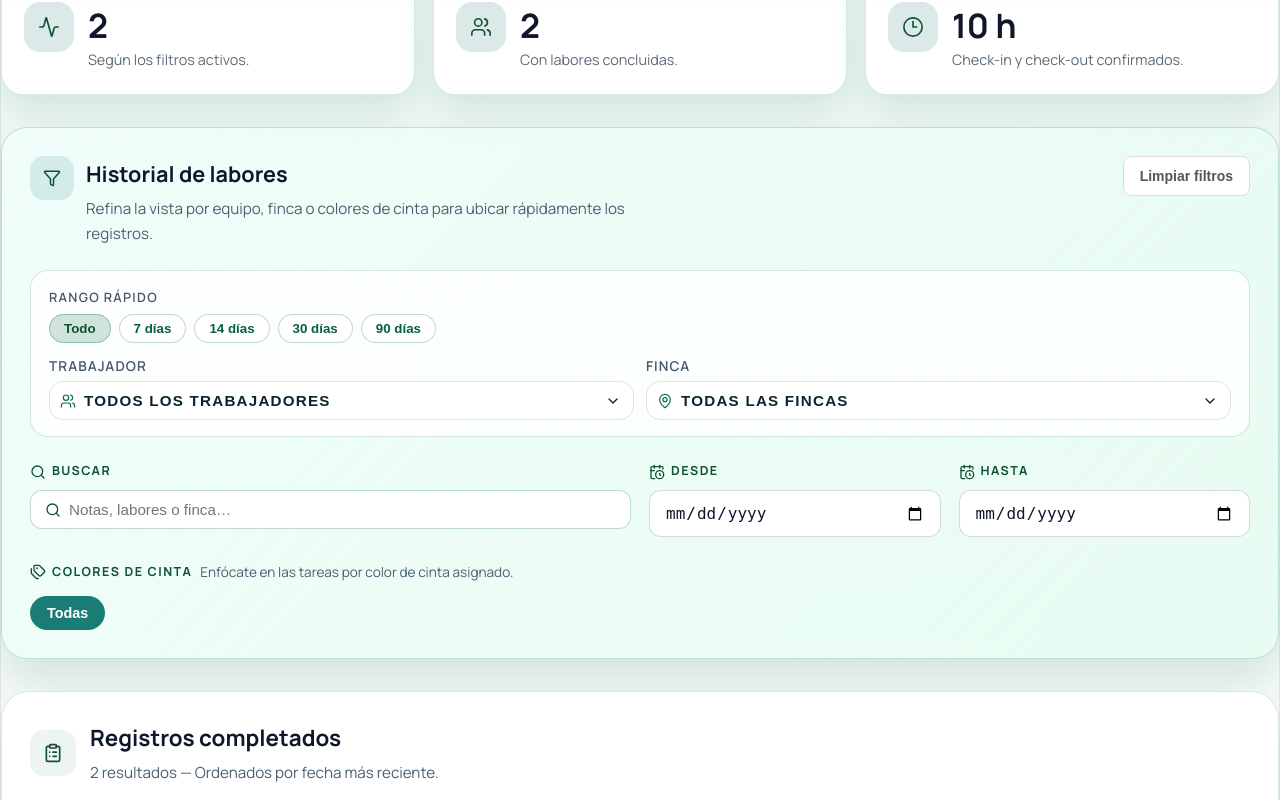
Scenario: WorkerLogViewer filters › filter by worker using the new select
(page scrolled)
Click the button with class "filterPanel__dropdownTrigger" showing "Todos los trabajadores" at (207, 401), box [84, 382, 621, 420]
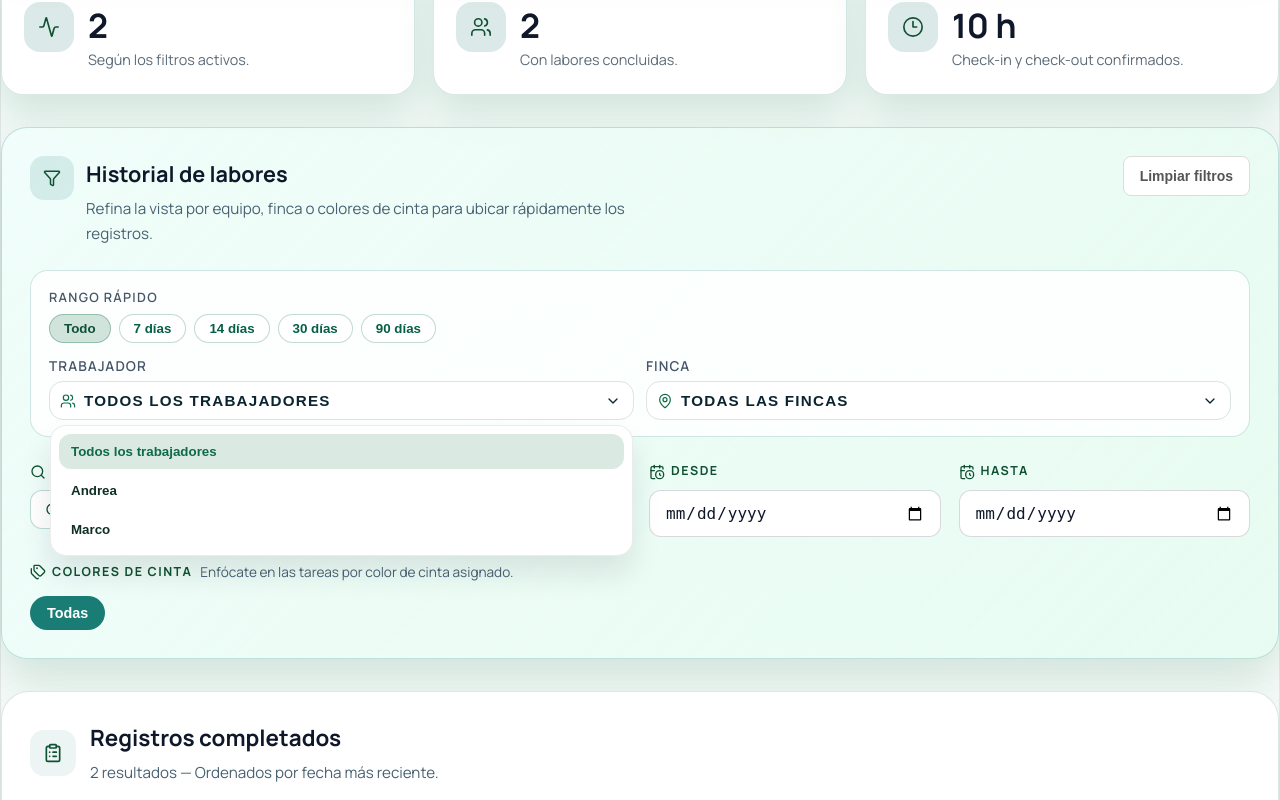
Click the button "Marco" at (91, 530), box [59, 512, 624, 548]
(page scrolled)
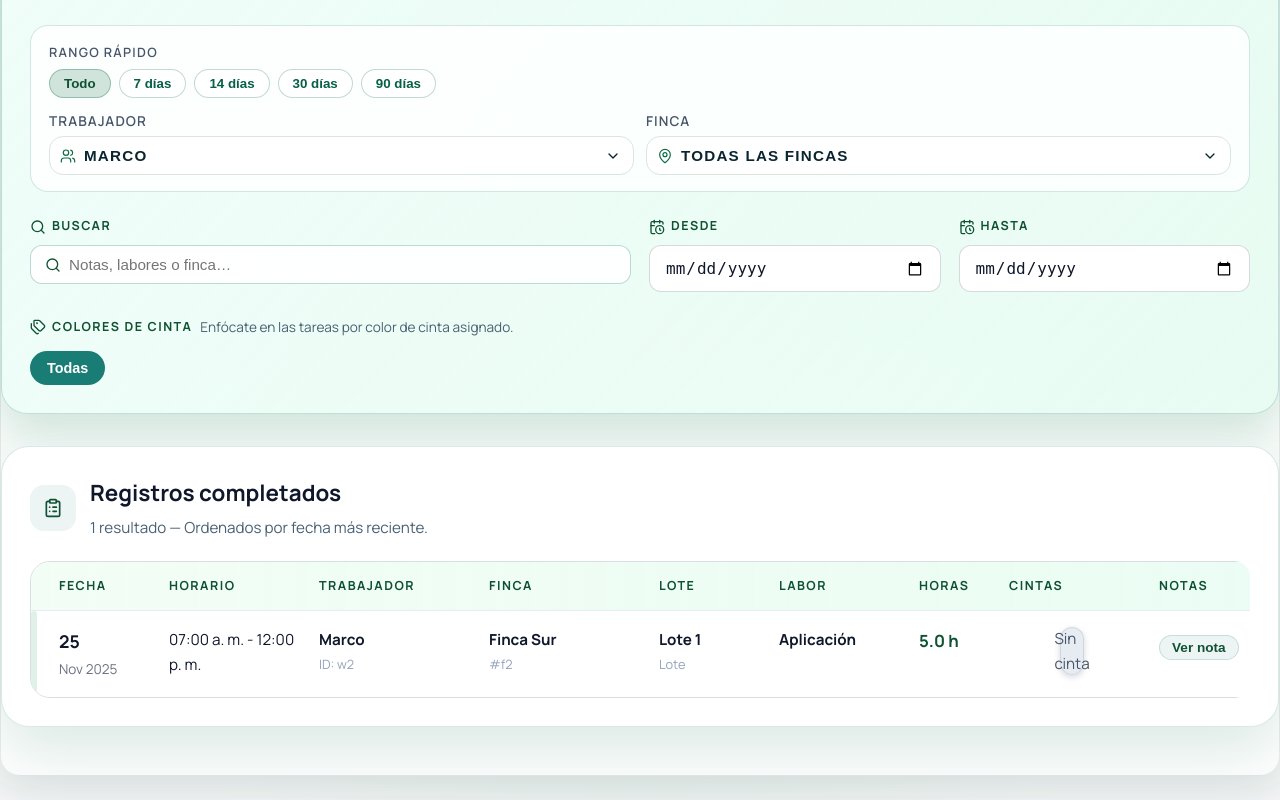
Expected: the text "Marco" next to "Finca Sur" is shown, [319, 629, 364, 650]
Now the button "Andrea" is gone
